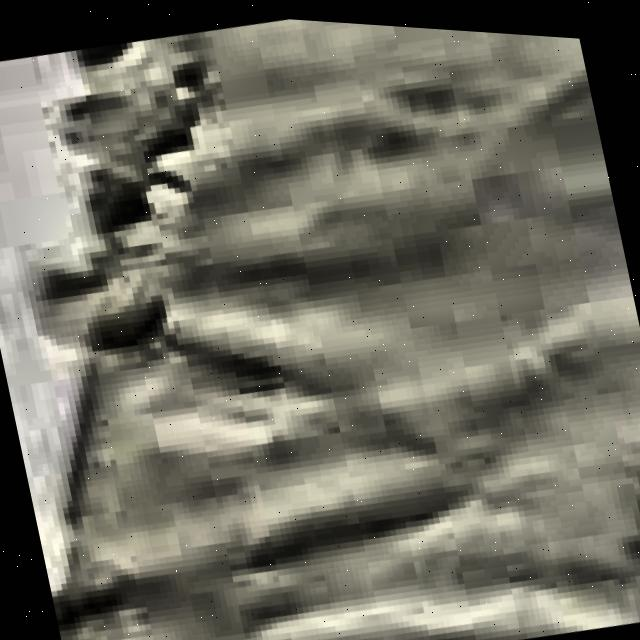paper: (41, 15, 640, 640)
